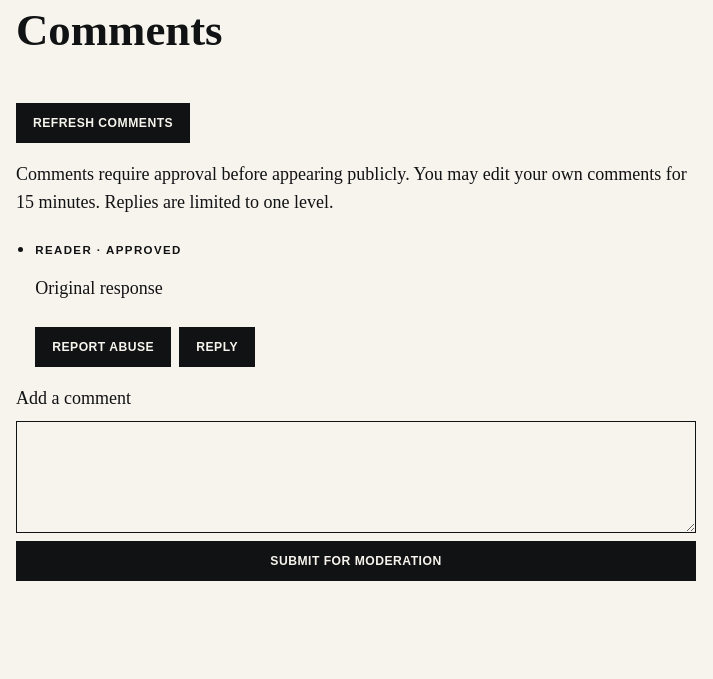
Comments › reports abuse with category and details
Click the button "Report abuse".
click(103, 347)  # box [35,327,171,367]
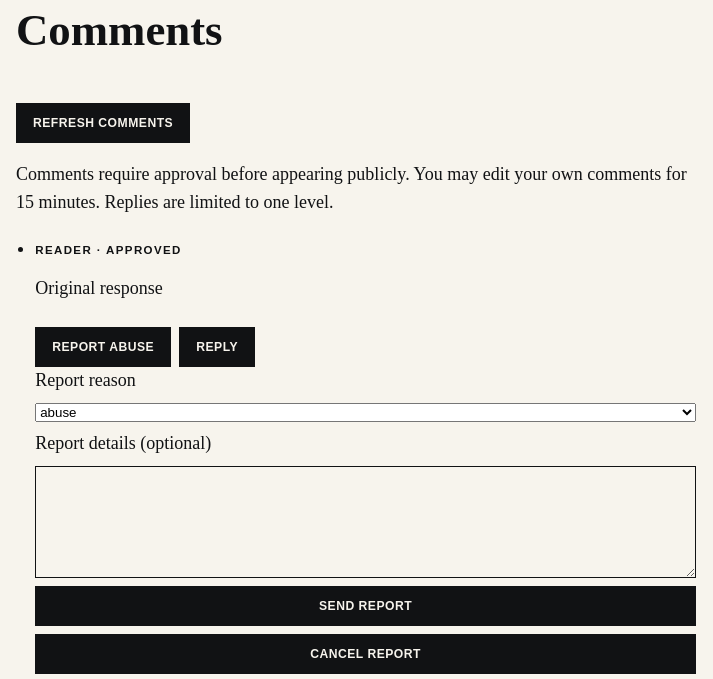
Select "harassment" in the dropdown labelled "Report reason" at (366, 413), box [35,403,696,422]
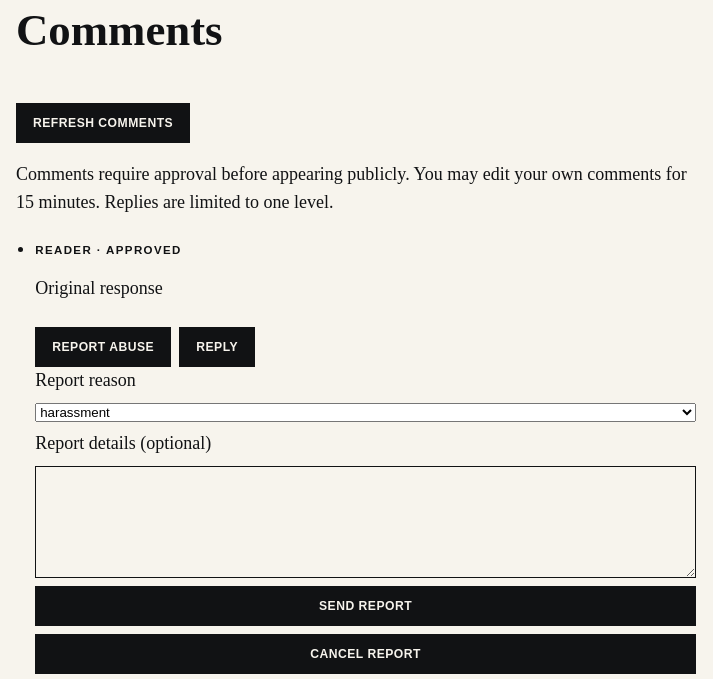
Type "Targeted insults." into the text box labelled "Report details (optional)".
click(366, 522); type("Targeted insults.")  # box [35,466,696,578]
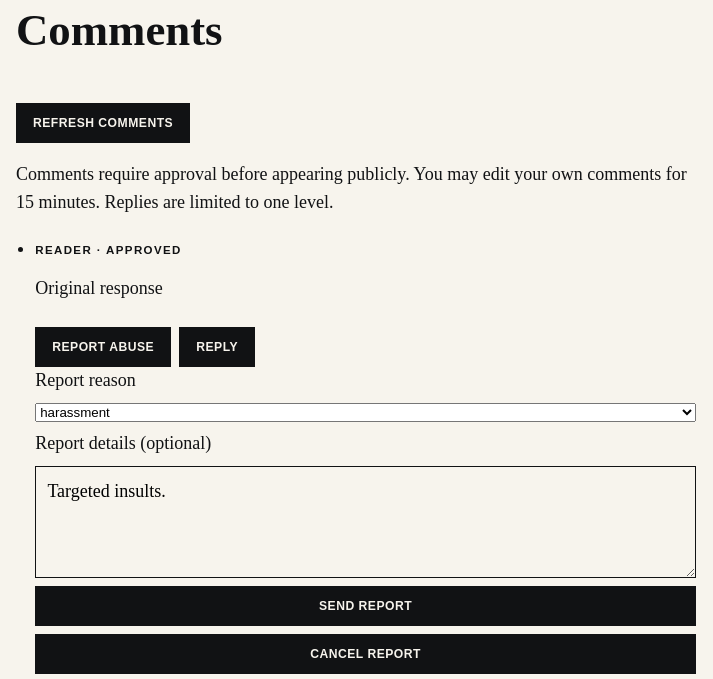
Click the button "Send report".
click(366, 606)  # box [35,586,696,626]
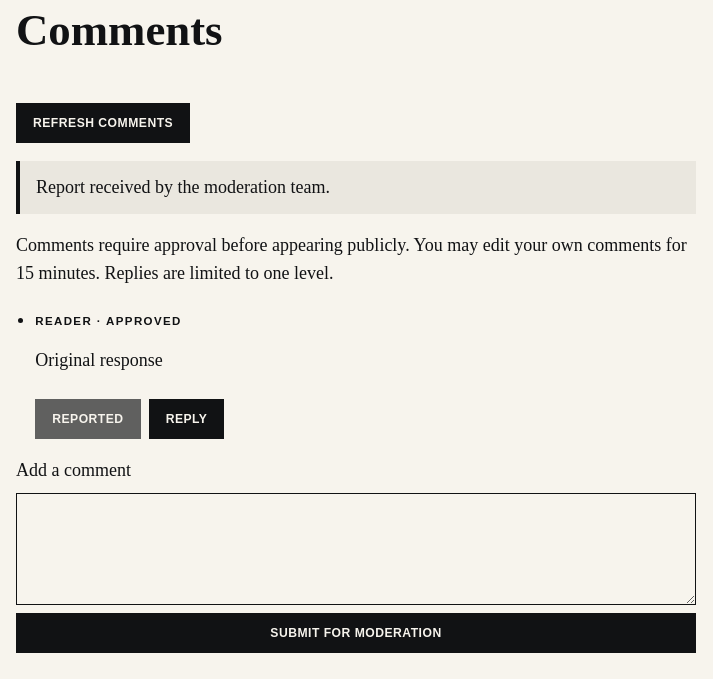
expect the button "Reported" is disabled: met, box [35,399,141,439]
